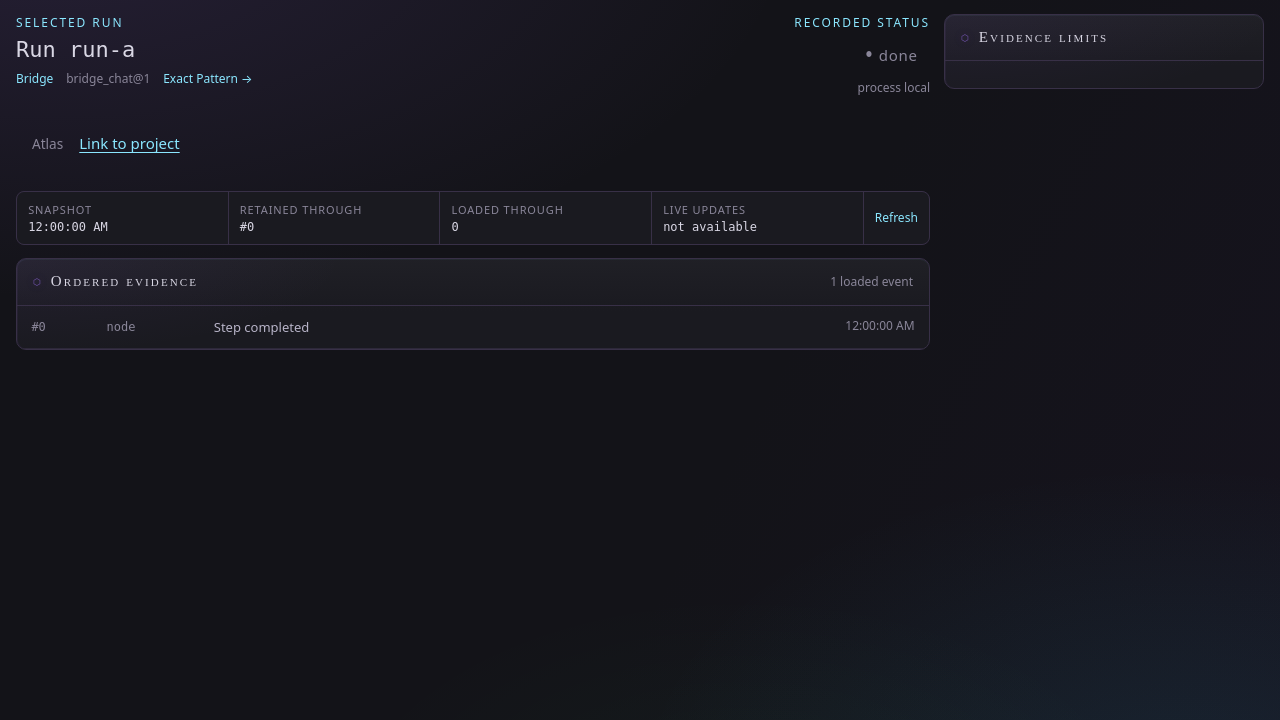
Test: Orb evidence focus › retains same-Run evidence when refresh fails
Expected: the button "#0 node Step completed 12:00:00 AM" is shown, [17, 306, 929, 349]
Click the button "Refresh" at (896,218), box [864, 192, 929, 244]
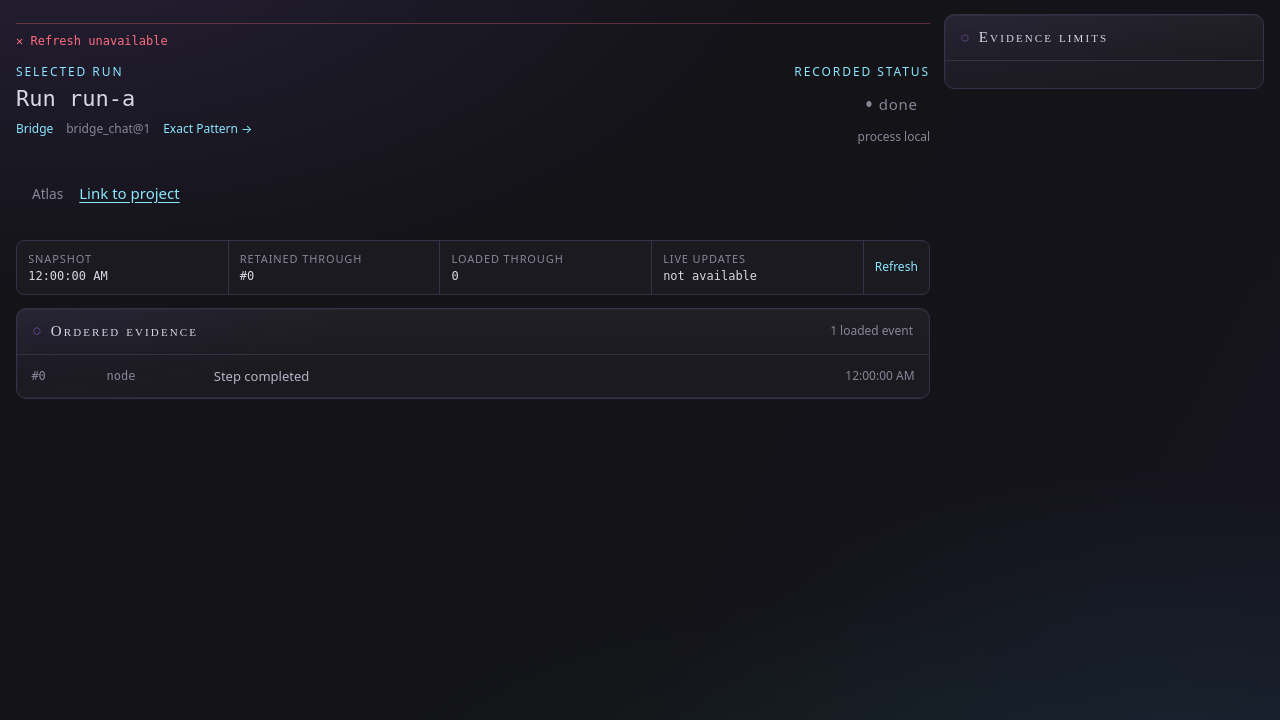
Expected: the button "#0 node Step completed 12:00:00 AM" is shown, [17, 355, 929, 398]
Expected: the message reads "Refresh unavailable", [30, 34, 168, 48]
